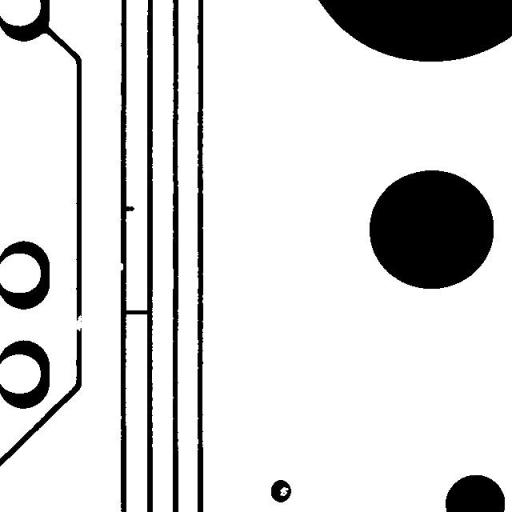mousebite: (108, 255, 130, 278)
open: (67, 308, 90, 338)
pin-hole: (272, 479, 296, 503)
short: (113, 302, 157, 322)
spur: (116, 198, 142, 218)
